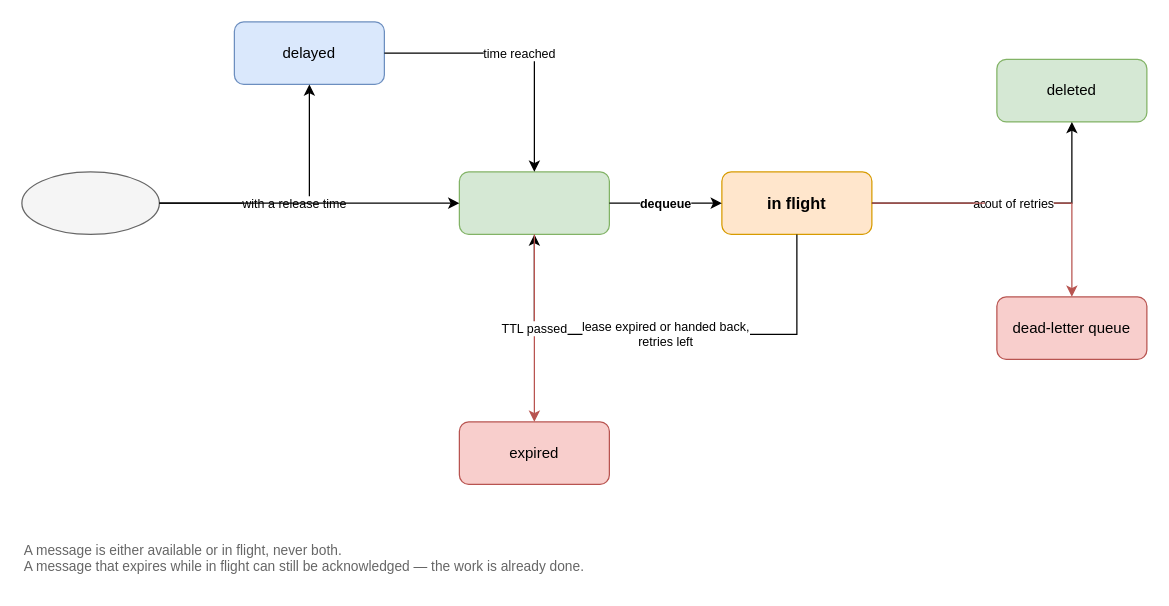
Image size: 1169x606. Some labels were removed from this diagram. Here are the shapes that lost their labels. From the top down, the box of each, then its label:
(21, 171, 159, 234): submitted
(458, 171, 609, 234): available
